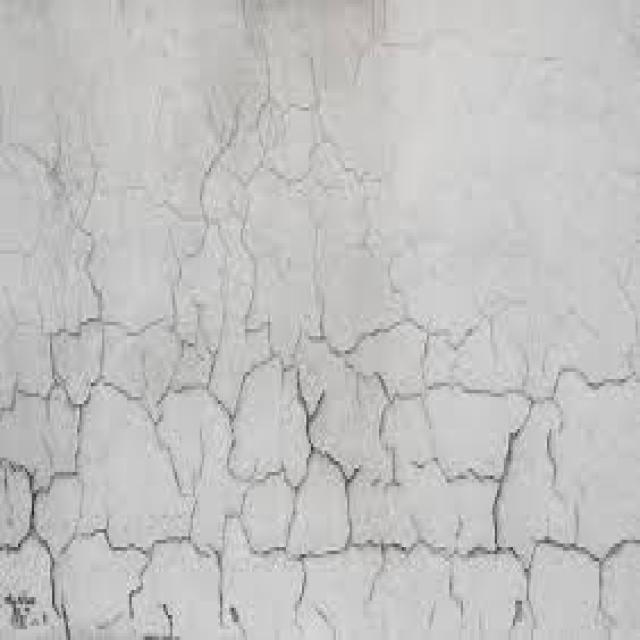crack: (5, 313, 495, 427), (0, 450, 228, 632)
